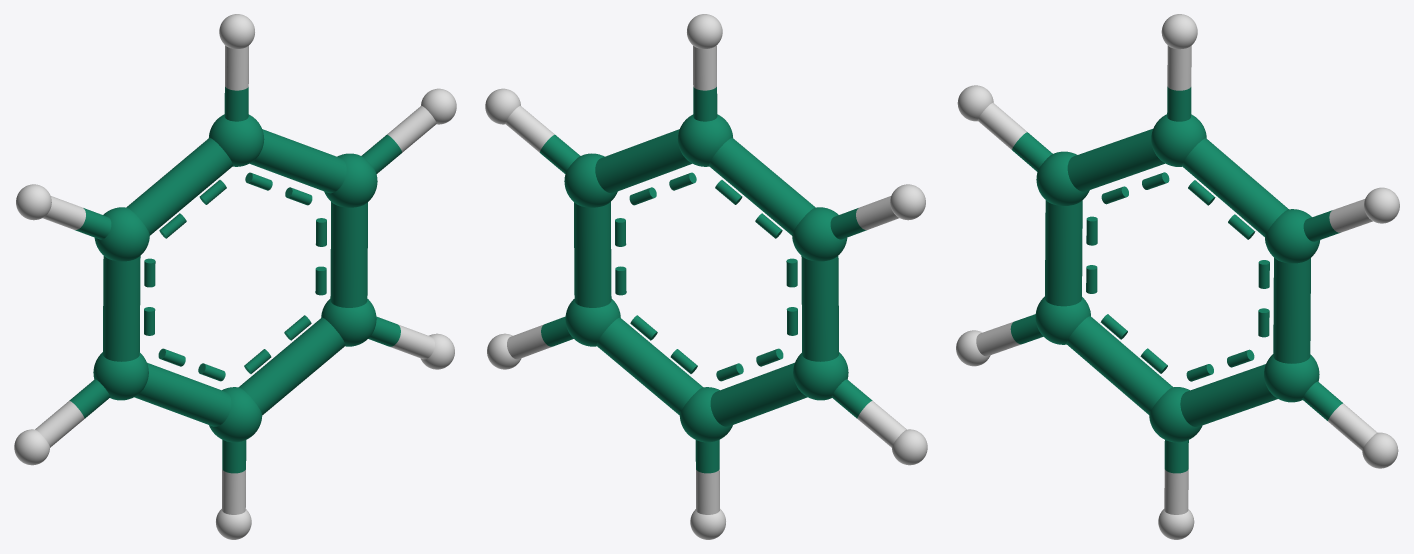
The model's file is Benzene.glb.
3 renders of one model, left to right at view 1: azimuth 30°, elevation 25°; view 2: azimuth 150°, elevation 25°; view 3: azimuth 330°, elevation 25°, orthographic.
Size of the model in its own units: 4.65 by 5.29 by 0.5102.
